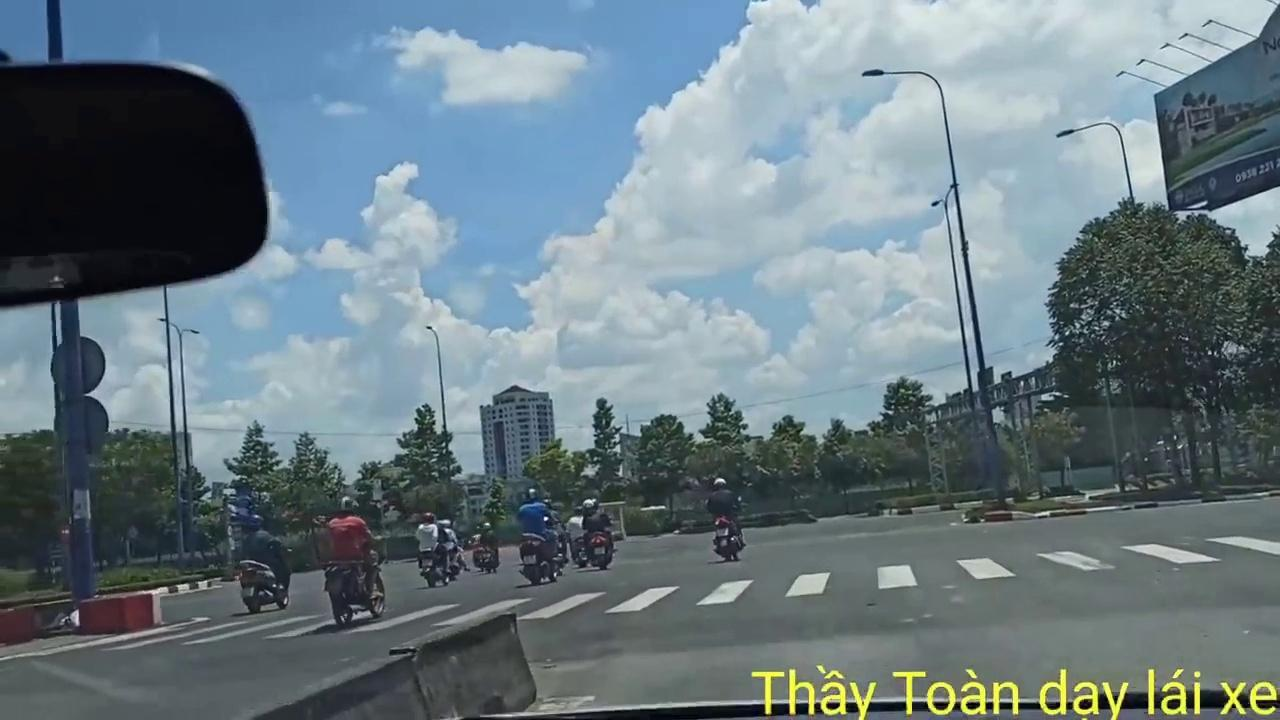Cấm đi ngược chiều: (60, 521, 74, 545)
